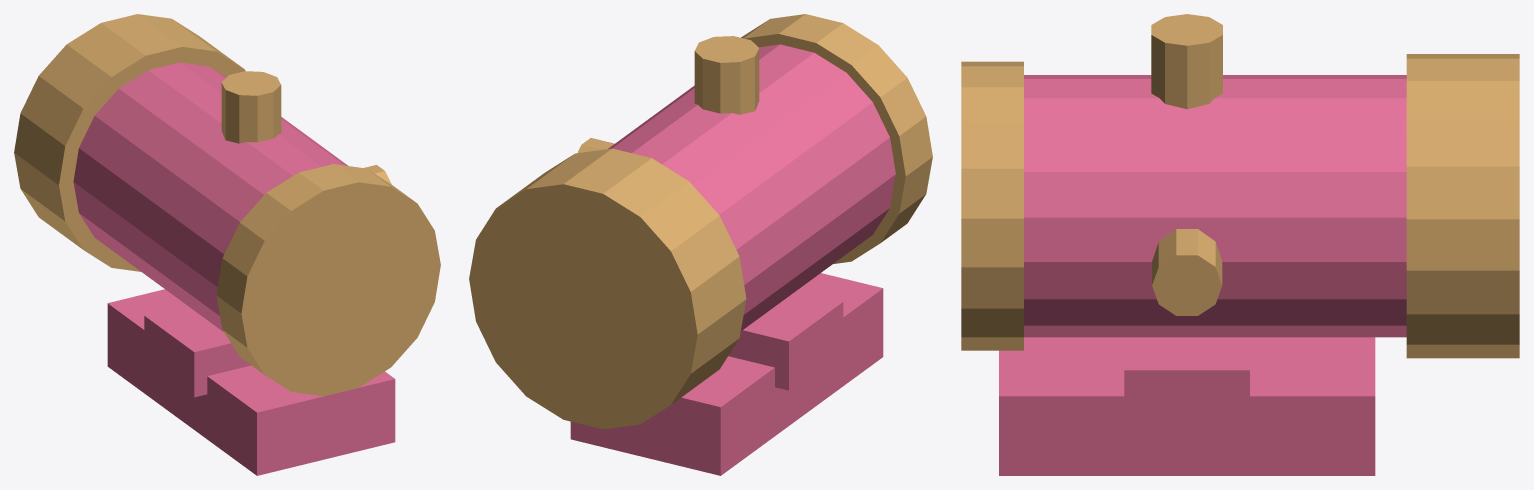
Rendered from RedDot.obj.
3 renders of one model, left to right at view 1: azimuth 30°, elevation 25°; view 2: azimuth 150°, elevation 25°; view 3: azimuth 270°, elevation 25°, orthographic. The views are drawn at different scales.
Parts seen in each view (by area): view 1: RedDot_Detail, RedDot_Body; view 2: RedDot_Detail, RedDot_Body; view 3: RedDot_Body, RedDot_Detail.
Part boxes in pixels (x1,y1,x2,y2): RedDot_Detail: [14, 14, 440, 396]; RedDot_Body: [73, 62, 395, 475]; RedDot_Detail: [469, 14, 932, 429]; RedDot_Body: [570, 44, 895, 475]; RedDot_Body: [999, 75, 1406, 475]; RedDot_Detail: [961, 14, 1519, 358].
Size of the model in its own units: 0.2718 by 0.355 by 0.445.
